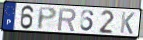2: (98, 9, 116, 35)
6: (19, 5, 34, 31), (80, 9, 95, 32)
K: (119, 11, 136, 36)
P: (37, 6, 58, 31)
R: (57, 8, 78, 33)
